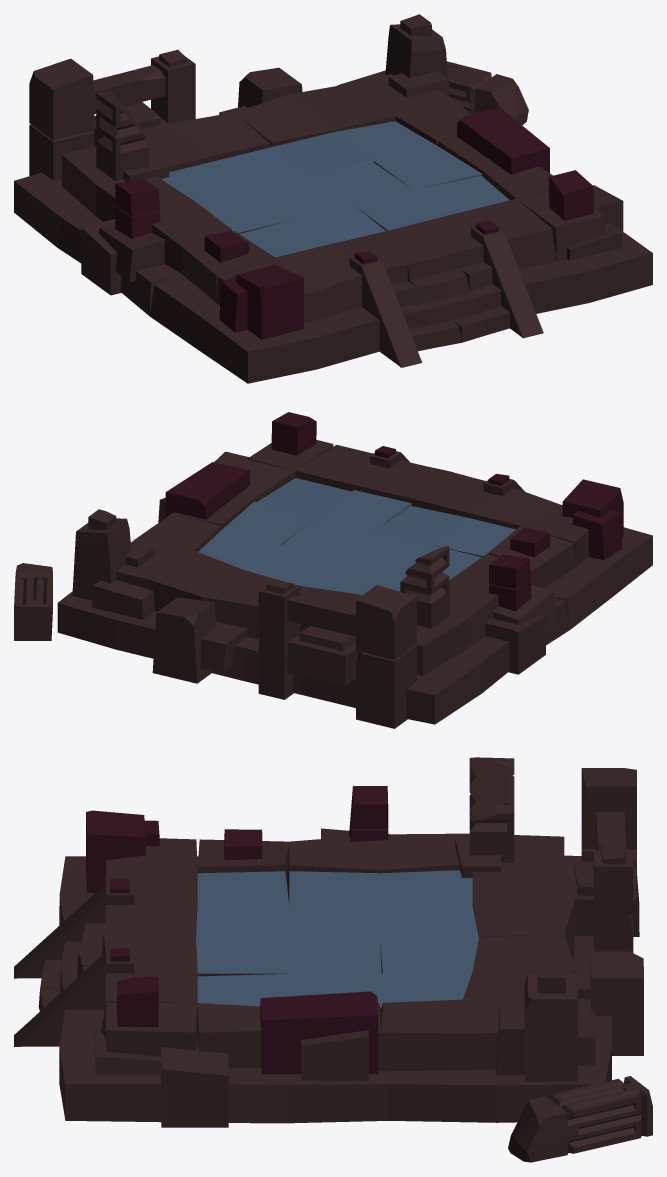
Rendered from ruintemple2.fbx.
The picture shows the model from 3 angles, top to bottom: view 1: azimuth 30°, elevation 25°; view 2: azimuth 150°, elevation 25°; view 3: azimuth 270°, elevation 25°; orthographic projection. The views are drawn at different scales.
Visible parts, largest first — view 1: Temple, Temple.001; view 2: Temple, Temple.001; view 3: Temple, Temple.001.
Boxes of the visible parts, bbox=[...] form: Temple: bbox=[14, 14, 652, 383]; Temple.001: bbox=[161, 121, 509, 257]; Temple: bbox=[14, 412, 652, 728]; Temple.001: bbox=[198, 478, 515, 595]; Temple: bbox=[14, 757, 652, 1162]; Temple.001: bbox=[196, 870, 478, 1008].
Bounding box in the file's own units: 486 × 134 × 474.
